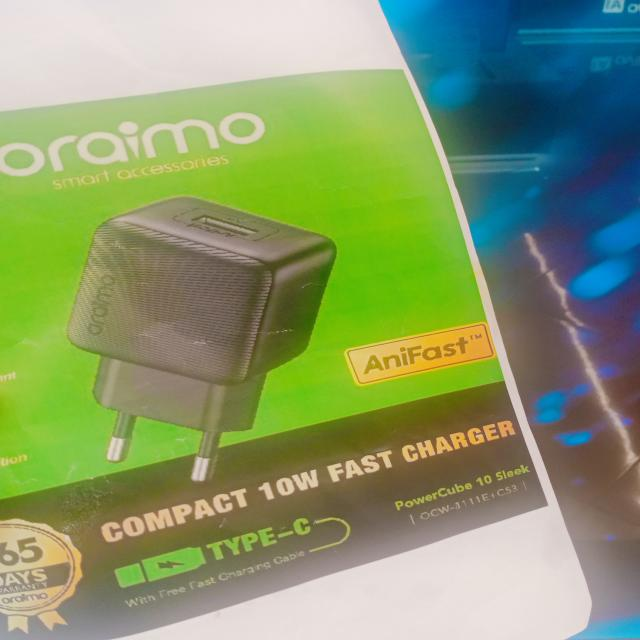PowerCube 10 Sleek OCW-1111ExL53: (386, 461, 530, 531)
